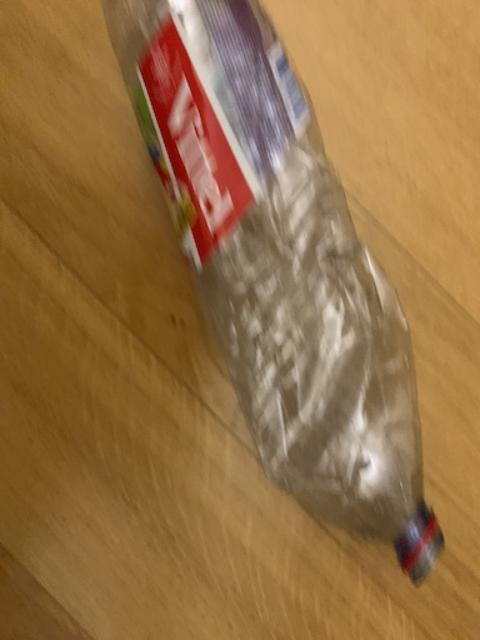plastic: (101, 0, 441, 581)
